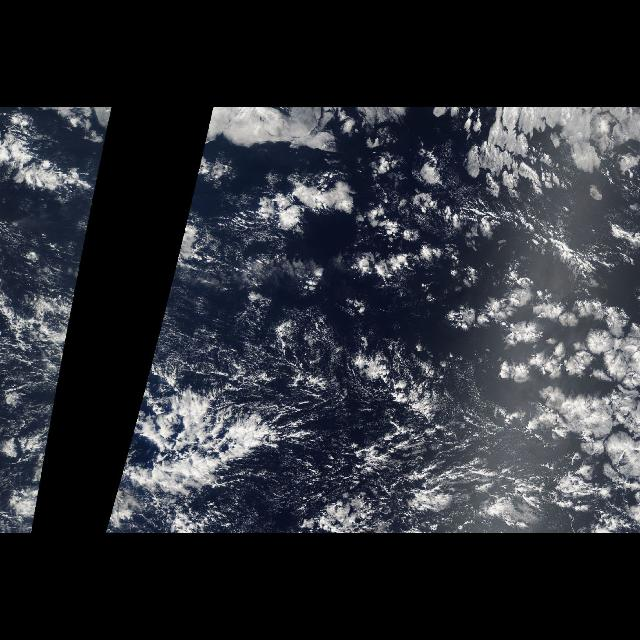Fish: (105, 378, 307, 530), (21, 378, 60, 530)
Flower: (233, 114, 639, 500)
Gravel: (279, 332, 451, 532)
Sugar: (144, 276, 372, 398)
